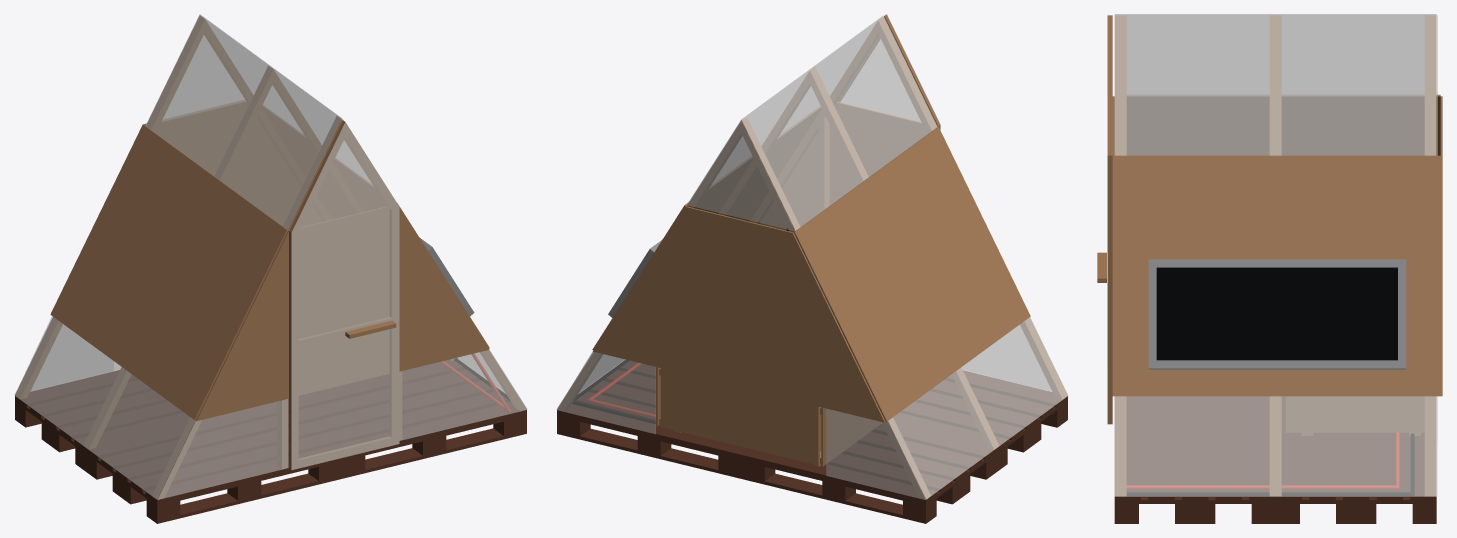
The model's file is model for DCL_doors included.glb.
3 renders of one model, left to right at view 1: azimuth 30°, elevation 25°; view 2: azimuth 150°, elevation 25°; view 3: azimuth 270°, elevation 25°, orthographic. The views are drawn at different scales.
Visible parts, largest first — view 1: wood, transparent, pallette; view 2: wood, transparent, pallette; view 3: wood, transparent, pallette, system.001, system, system.007, system.006.
Part boxes in pixels (x1,y1,x2,y2): wood: [15, 16, 526, 499]; transparent: [14, 14, 527, 499]; pallette: [15, 360, 526, 523]; wood: [557, 14, 1067, 499]; transparent: [556, 15, 1068, 499]; pallette: [557, 361, 1067, 523]; wood: [1097, 15, 1442, 496]; transparent: [1107, 14, 1437, 496]; pallette: [1114, 396, 1436, 523]; system.001: [1156, 267, 1397, 360]; system: [1148, 259, 1406, 369]; system.007: [1127, 433, 1414, 495]; system.006: [1127, 433, 1399, 488].
Size of what is drawn, in the model's own units: 2.41 by 2.24 by 1.72.
2 materials, 1 textured.
